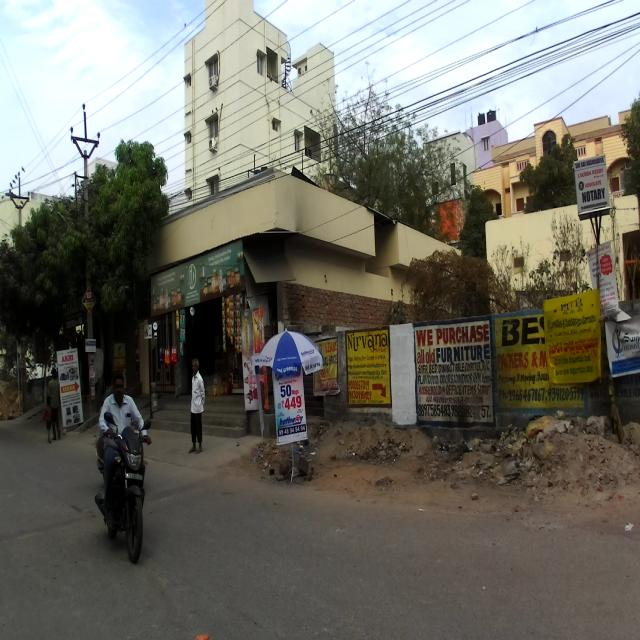motorcycle ahead at: (96, 413, 151, 574)
person ahead at: (185, 356, 209, 461)
